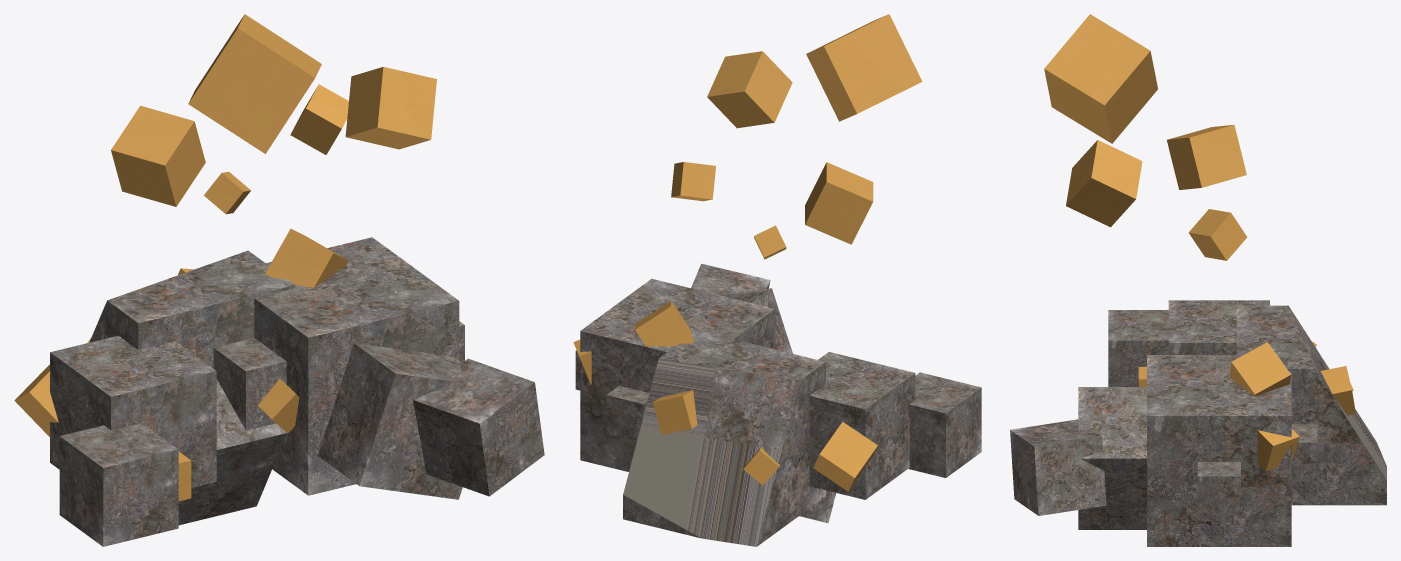
Rendered from pixels_s_1.glb.
The picture shows the model from 3 angles, left to right: view 1: azimuth 30°, elevation 25°; view 2: azimuth 150°, elevation 25°; view 3: azimuth 270°, elevation 25°; orthographic projection. The views are drawn at different scales.
Visible parts, largest first — view 1: Cube.001; view 2: Cube.001; view 3: Cube.001.
Part boxes in pixels (left/top/right/bottom): Cube.001: left=14, top=14, right=544, bottom=546; Cube.001: left=573, top=14, right=981, bottom=546; Cube.001: left=1010, top=14, right=1386, bottom=546.
Bounding box in the file's own units: 2.75 × 3.55 × 2.61.
Materials: 2 (2 with a texture image).
